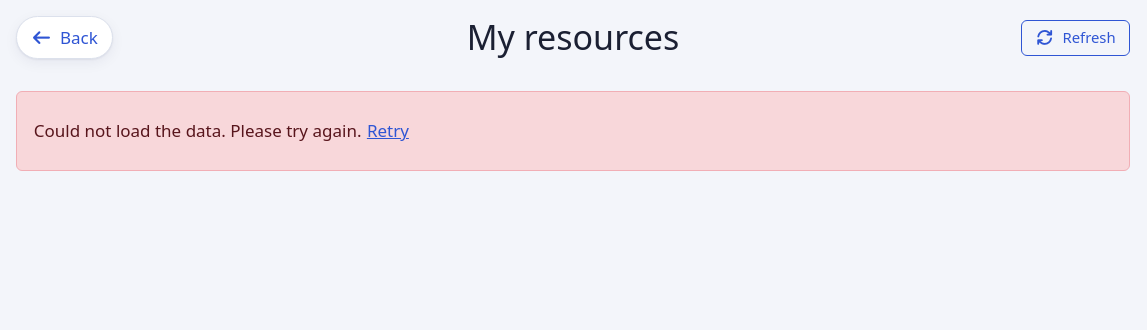
Test: offers a retry after an error and reloads
Click the button "Retry" at [388, 131], box [366,109,410,153]
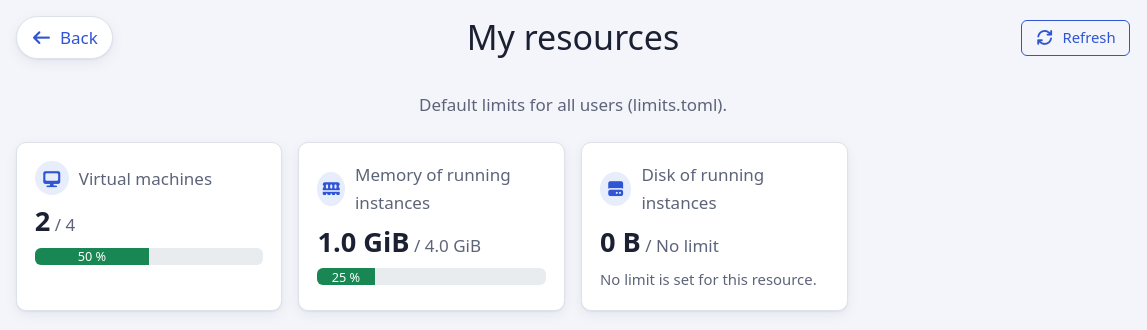
expect the text "Virtual machines" is shown: met, box [79,165,212,192]
